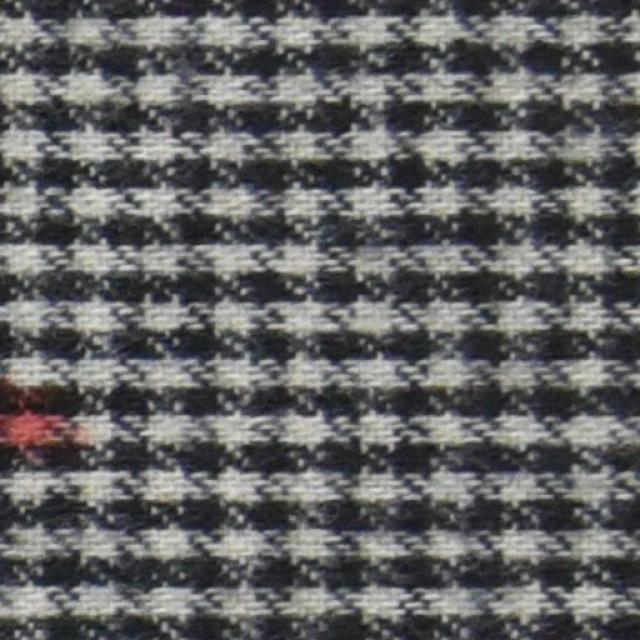Stain: (0, 384, 78, 479)
